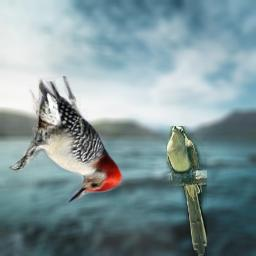Cuckoo: (166, 126, 207, 256)
Woodpecker: (4, 76, 126, 206)
